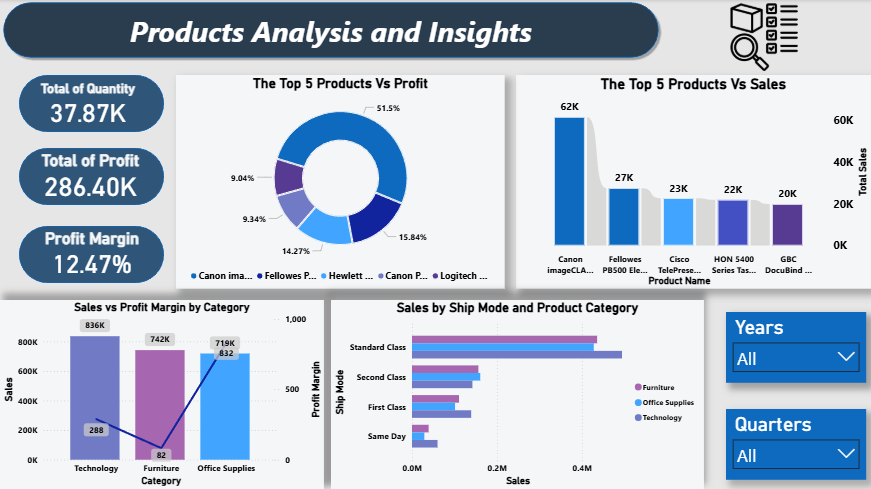

The page's visual inventory and layout, read from the dashboard file:
{"tool":"powerbi","page":{"name":"Products","canvas":[1280,720],"ordinal":2},"visuals":[{"type":"shape","box":[0,0,972.7,91.1],"z":0},{"type":"shape","box":[27.9,111.7,213.1,83.8],"z":0,"group":"g1"},{"type":"shape","box":[27.9,219,213.1,83.8],"z":1000,"group":"g1"},{"type":"columnChart","title":"The Top 5 Products Vs Sales","fields":{"Category":["DIMPRODUCT.PRODUCT_NAME"],"Y":["Sum(FACTSALES.SALES)"]},"box":[758.2,111.7,521.6,314.4],"z":2000},{"type":"shape","box":[27.9,333.6,213.1,83.8],"z":2000,"group":"g1"},{"type":"slicer","fields":{"Values":["DIMDATE.YEAR"]},"box":[1066.8,459.9,205.7,104.3],"z":3000},{"type":"slicer","fields":{"Values":["DIMDATE.QUARTER"]},"box":[1066.8,602.4,205.7,104.3],"z":4000},{"type":"slicer","fields":{"Values":["DIMSHIPMODE.SHIP_MODE"]},"box":[718.5,602.4,185.1,104.3],"z":5000},{"type":"slicer","fields":{"Values":["DIMPRODUCT.SUB_CATEGORY"]},"box":[649.5,615.7,185.1,104.3],"z":6000},{"type":"donutChart","title":"The Top 5 Products Vs Profit","fields":{"Y":["Sum(FACTSALES.PROFIT)"],"Category":["DIMPRODUCT.PRODUCT_NAME"]},"box":[258.6,111.7,483.4,314.4],"z":7000},{"type":"lineStackedColumnComboChart","title":"Sales vs Profit Margin by Category","fields":{"Category":["DIMPRODUCT.CATEGORY"],"Y":["Sum(FACTSALES.SALES)"],"Y2":["Sum(FACTSALES.PROFIT_MARGIN)"]},"box":[0,442.3,476.1,277.7],"z":9000},{"type":"clusteredBarChart","title":"Sales by Ship Mode and Product Category","fields":{"Category":["DIMSHIPMODE.SHIP_MODE"],"Y":["Sum(FACTSALES.SALES)"],"Series":["DIMPRODUCT.CATEGORY"]},"box":[486.4,442.3,548.1,277.7],"z":10000},{"type":"card","title":"Total of Quantity","fields":{"Values":["Sum(FACTSALES.QUANTITY)"]},"box":[51.4,120.5,155.8,70.5],"z":13000,"group":"g1"},{"type":"card","title":"Total of Profit","fields":{"Values":["Sum(FACTSALES.PROFIT)"]},"box":[51.4,223.4,163.1,74.9],"z":14000,"group":"g1"},{"type":"card","title":"Profit Margin","fields":{"Values":["DIMCUSTOMER.Profit Margin"]},"box":[52.9,338,164.6,73.5],"z":15000,"group":"g1"},{"type":"group","id":"g1","title":"Group 1","box":[27.9,111.7,213.1,305.6],"z":15001},{"type":"image","box":[1019.8,0,205.7,111.7],"z":15002}]}

Visuals, with their boxes in screenshot pixels (x1, y1, x2, y2), scaled from the page's 1280x720 canvas onto the 871x489 screenshot:
shape: region(0, 0, 662, 62)
shape: region(19, 76, 164, 133)
shape: region(19, 149, 164, 206)
"The Top 5 Products Vs Sales" columnChart: region(516, 76, 870, 289)
shape: region(19, 227, 164, 283)
slicer - DIMDATE.YEAR: region(726, 312, 866, 383)
slicer - DIMDATE.QUARTER: region(726, 409, 866, 480)
slicer - DIMSHIPMODE.SHIP_MODE: region(489, 409, 615, 480)
slicer - DIMPRODUCT.SUB_CATEGORY: region(442, 418, 568, 488)
"The Top 5 Products Vs Profit" donutChart: region(176, 76, 505, 289)
"Sales vs Profit Margin by Category" lineStackedColumnComboChart: region(0, 300, 324, 488)
"Sales by Ship Mode and Product Category" clusteredBarChart: region(331, 300, 704, 488)
"Total of Quantity" card: region(35, 82, 141, 130)
"Total of Profit" card: region(35, 152, 146, 203)
"Profit Margin" card: region(36, 230, 148, 279)
"Group 1" group: region(19, 76, 164, 283)
image: region(694, 0, 834, 76)
